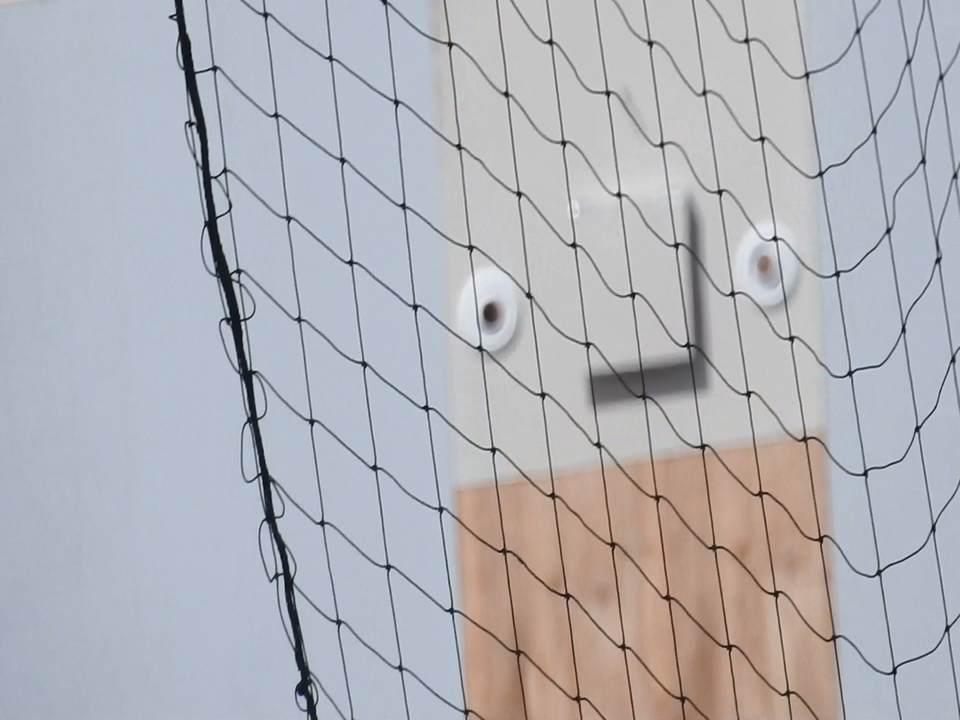facade: (455, 191, 804, 381)
